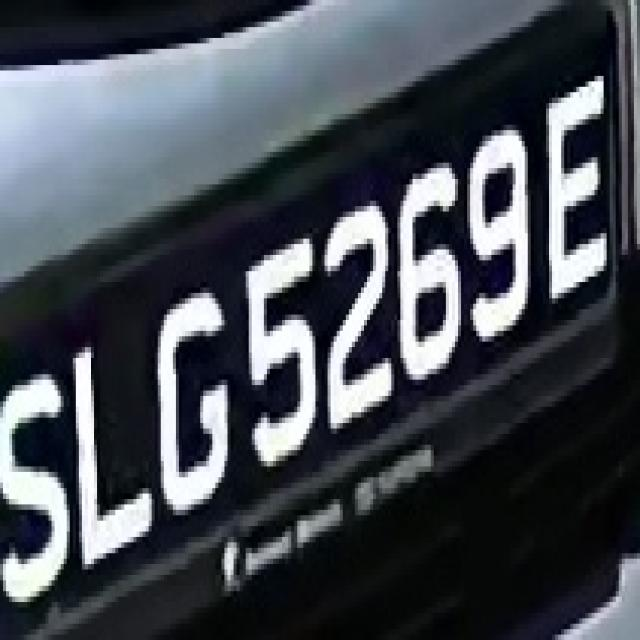2: (322, 195, 406, 456)
5: (236, 222, 322, 493)
6: (388, 152, 470, 390)
9: (458, 114, 546, 363)
E: (540, 60, 619, 331)
G: (158, 282, 234, 526)
L: (64, 314, 152, 596)
S: (6, 342, 73, 634)
